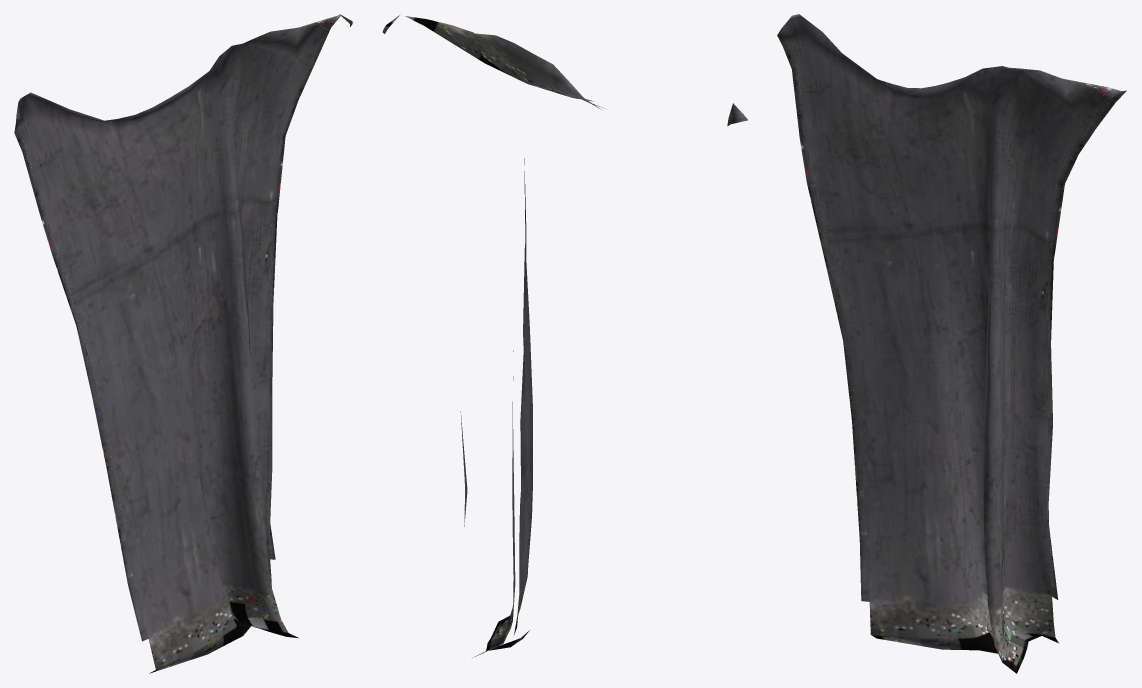
File: hanging_tarp_150_c.glb
3 views of the same model, side by side, from view 1: azimuth 30°, elevation 25°; view 2: azimuth 150°, elevation 25°; view 3: azimuth 330°, elevation 25° (orthographic). The views are drawn at different scales.
Parts seen in each view (by area): view 1: hanging_tarp_150_c_LOD0; view 2: hanging_tarp_150_c_LOD0; view 3: hanging_tarp_150_c_LOD0.
Boxes of the visible parts, bbox=[...] form: hanging_tarp_150_c_LOD0: bbox=[14, 14, 353, 673]; hanging_tarp_150_c_LOD0: bbox=[382, 14, 747, 656]; hanging_tarp_150_c_LOD0: bbox=[777, 14, 1126, 673].
Bounding box in the file's own units: 1.64 × 2.7 × 0.3911.
2 materials, 2 textured.
